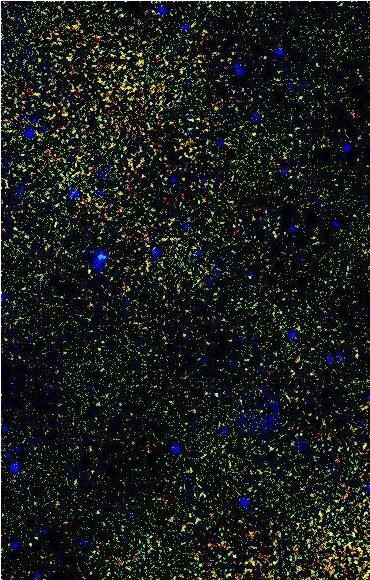star: (77, 257, 107, 287)
